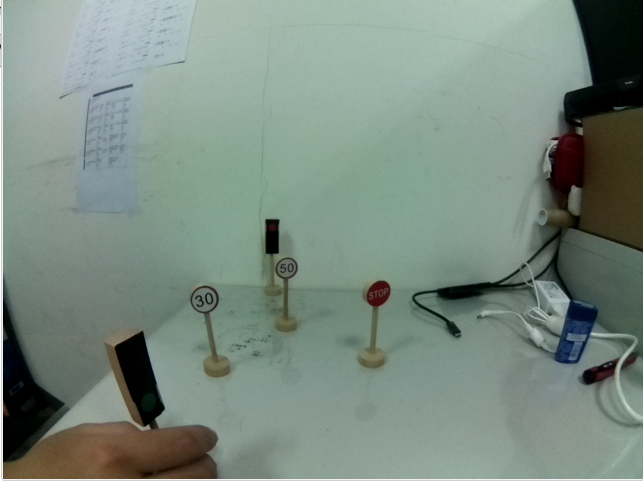Green: (100, 330, 176, 431)
Red: (260, 214, 282, 259)
Speed30: (187, 285, 226, 317)
Speed50: (275, 255, 302, 284)
Stop: (360, 277, 396, 313)
